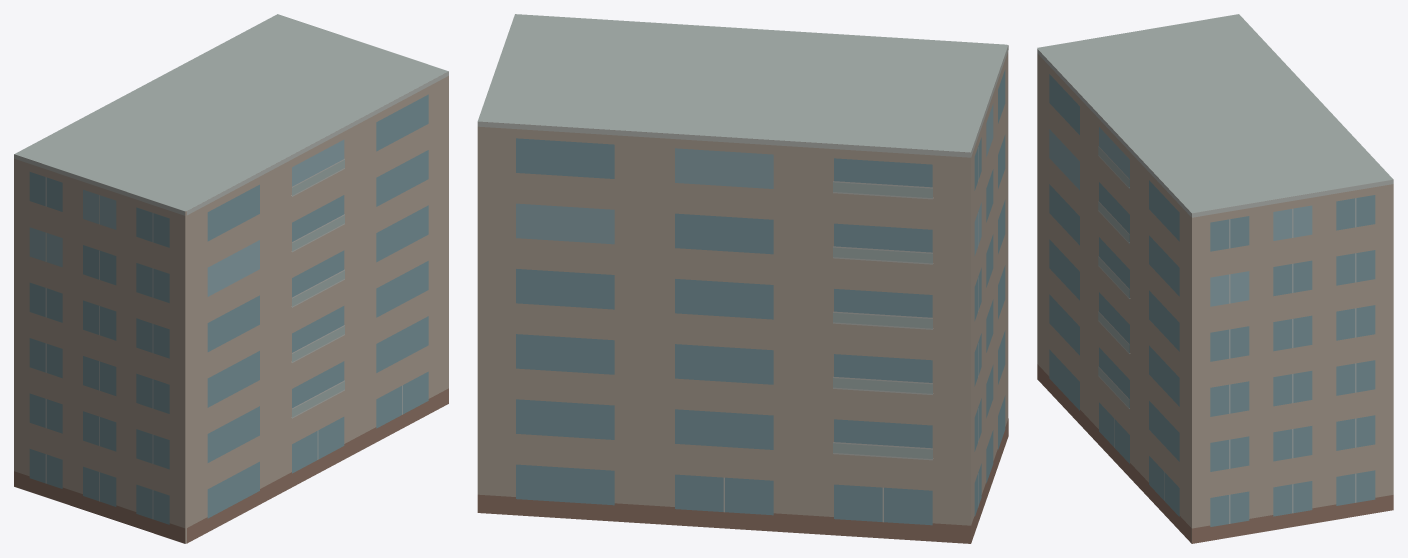
The model's file is survey-upis-32745977.glb.
3 renders of one model, left to right at view 1: azimuth 30°, elevation 25°; view 2: azimuth 150°, elevation 25°; view 3: azimuth 270°, elevation 25°, orthographic. The views are drawn at different scales.
Visible parts, largest first — view 1: survey-upis-32745977.tmp; view 2: survey-upis-32745977.tmp; view 3: survey-upis-32745977.tmp.
Boxes of the visible parts, left/top/right/bottom form: survey-upis-32745977.tmp: left=14, top=14, right=448, bottom=543; survey-upis-32745977.tmp: left=477, top=14, right=1008, bottom=543; survey-upis-32745977.tmp: left=1037, top=14, right=1393, bottom=543.
Size of the model in its own units: 23.69 by 18.3 by 17.89.
